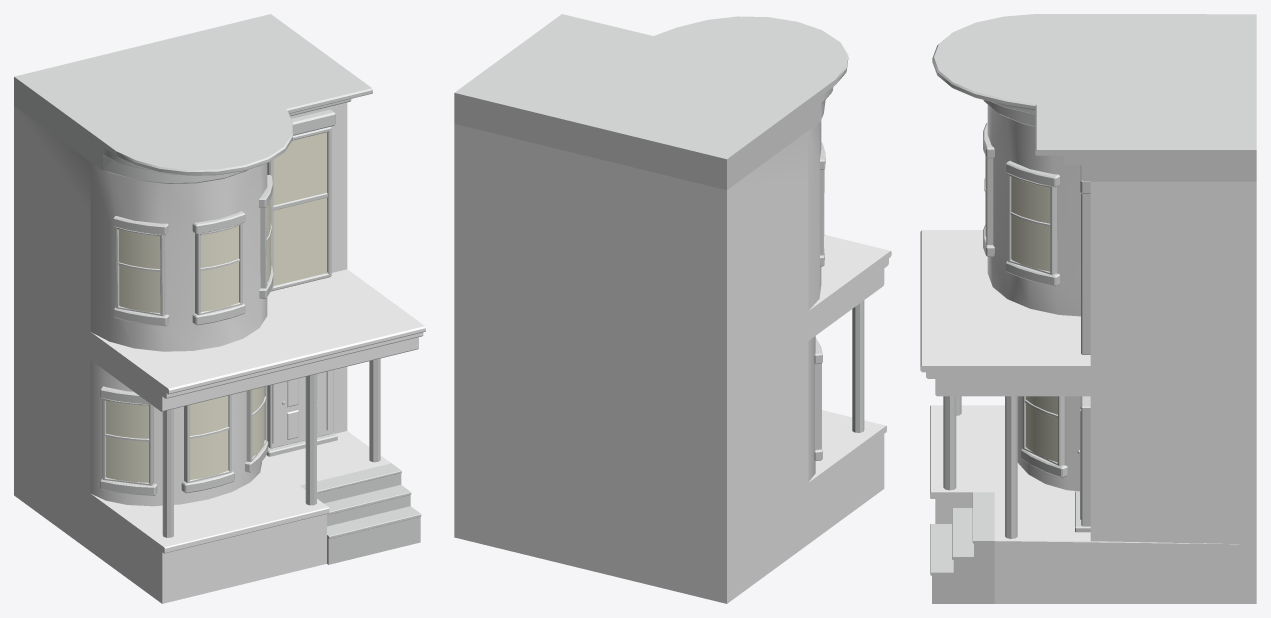
File: DarrenHouse1_UV.fbx
The picture shows the model from 3 angles, left to right: view 1: azimuth 30°, elevation 25°; view 2: azimuth 150°, elevation 25°; view 3: azimuth 270°, elevation 25°; orthographic projection. The views are drawn at different scales.
Parts seen in each view (by area): view 1: polySurface34; view 2: polySurface34; view 3: polySurface34.
Part boxes in pixels (x1,y1,x2,y2): polySurface34: [14, 14, 425, 603]; polySurface34: [454, 14, 891, 603]; polySurface34: [920, 14, 1256, 603].
Bounding box in the file's own units: 5.03 × 7.8 × 5.23.
